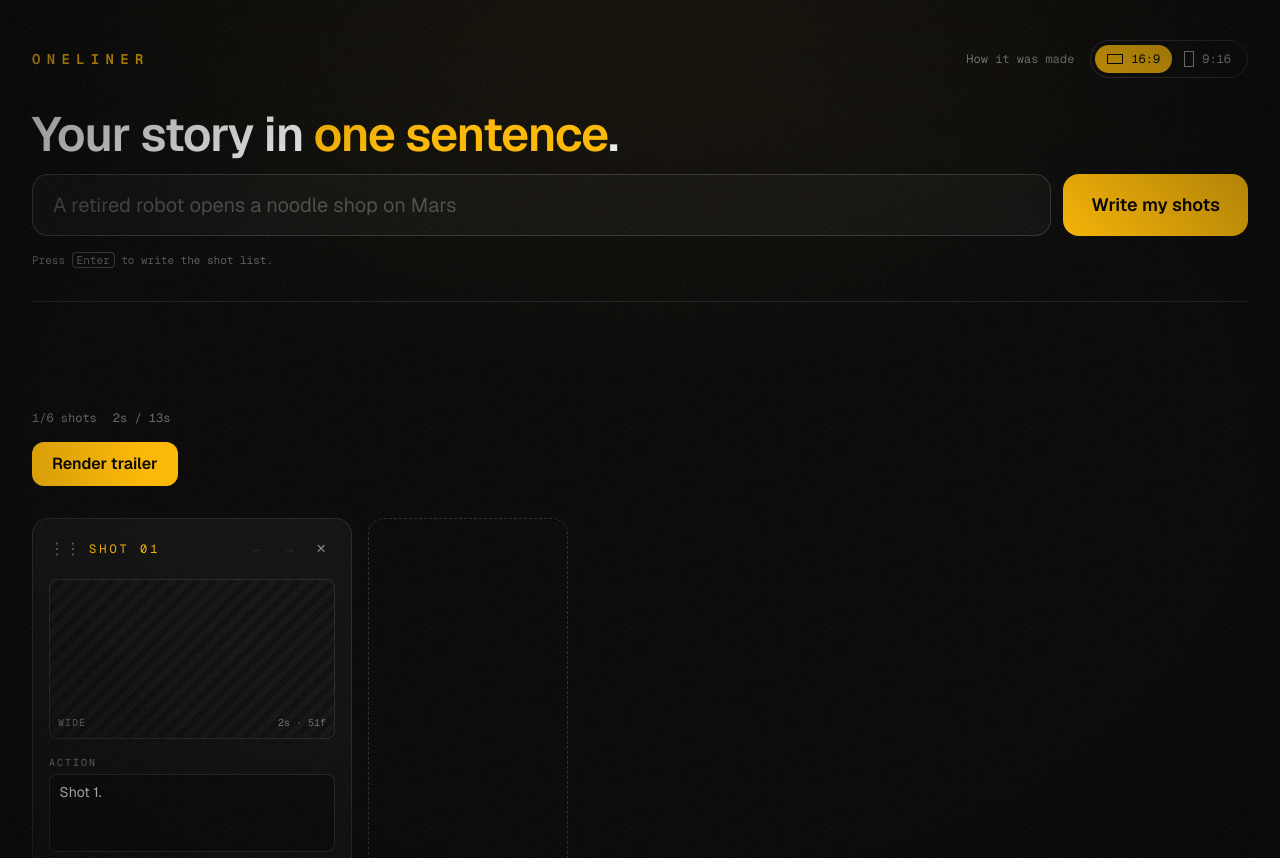
it: toasts › insufficient_credits -> toast
Click the button "Render trailer": (105, 464) [32,442,178,486]
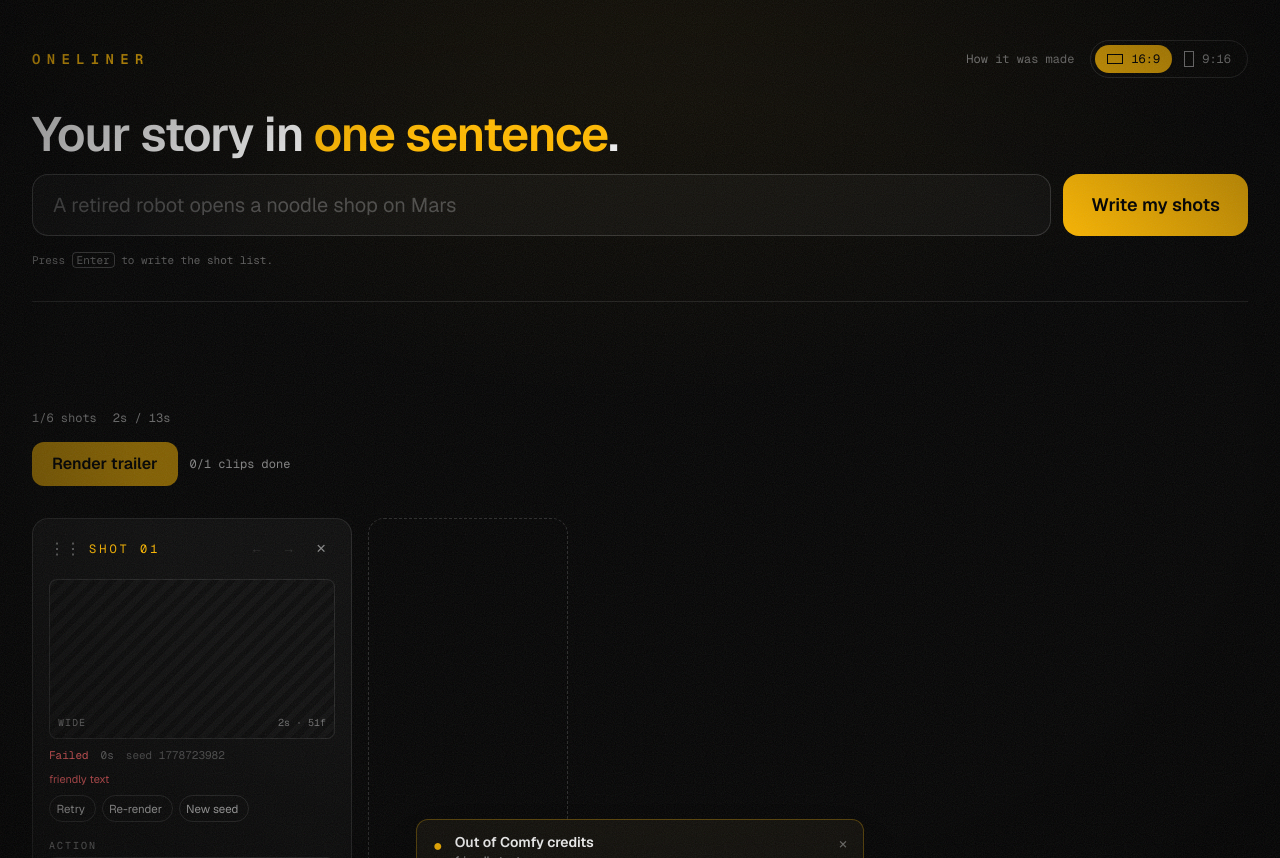
Now the text "Out of Comfy credits" is shown, box [455,832,594,850]
